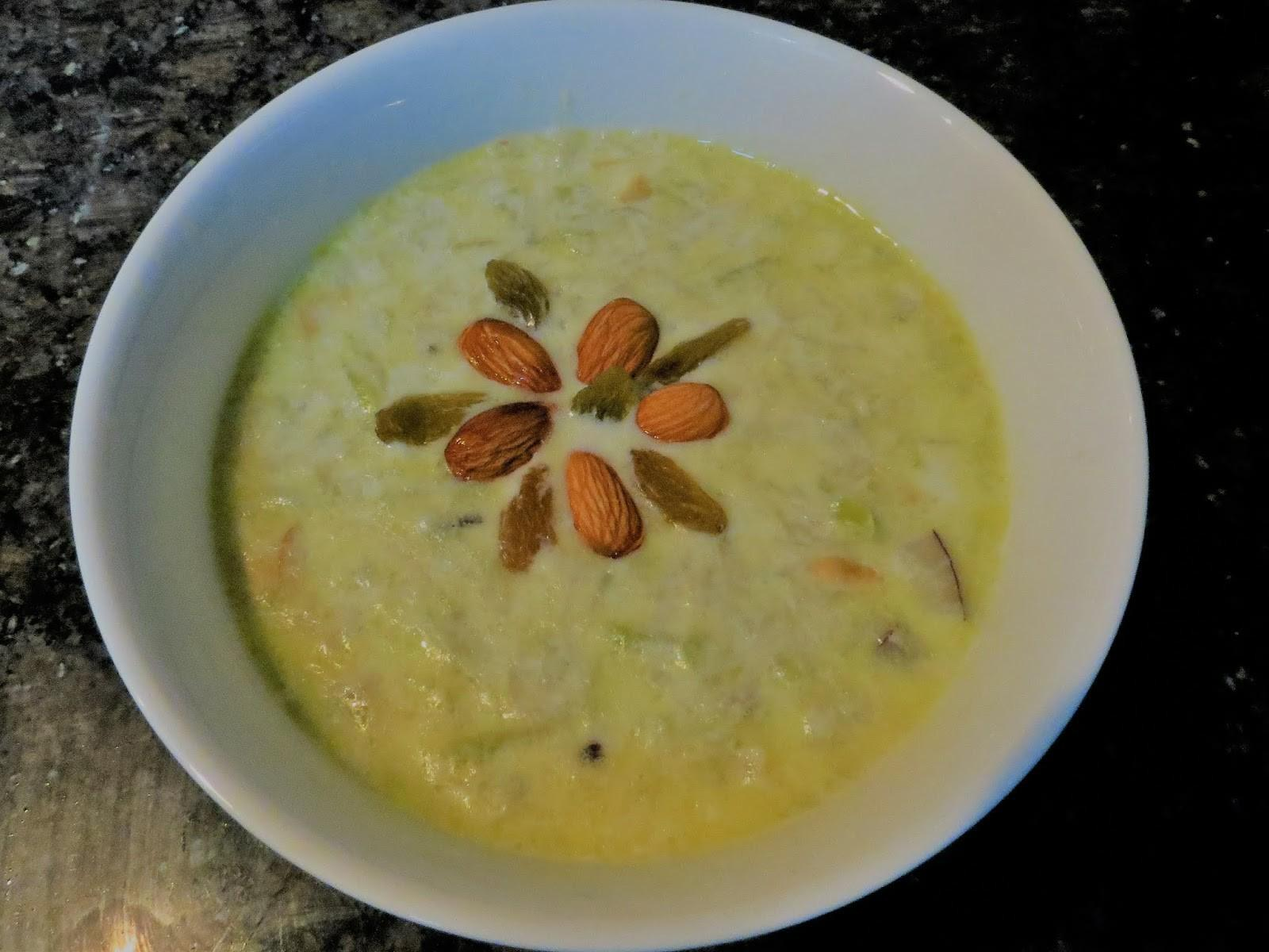Kheer: (211, 117, 1013, 865)
